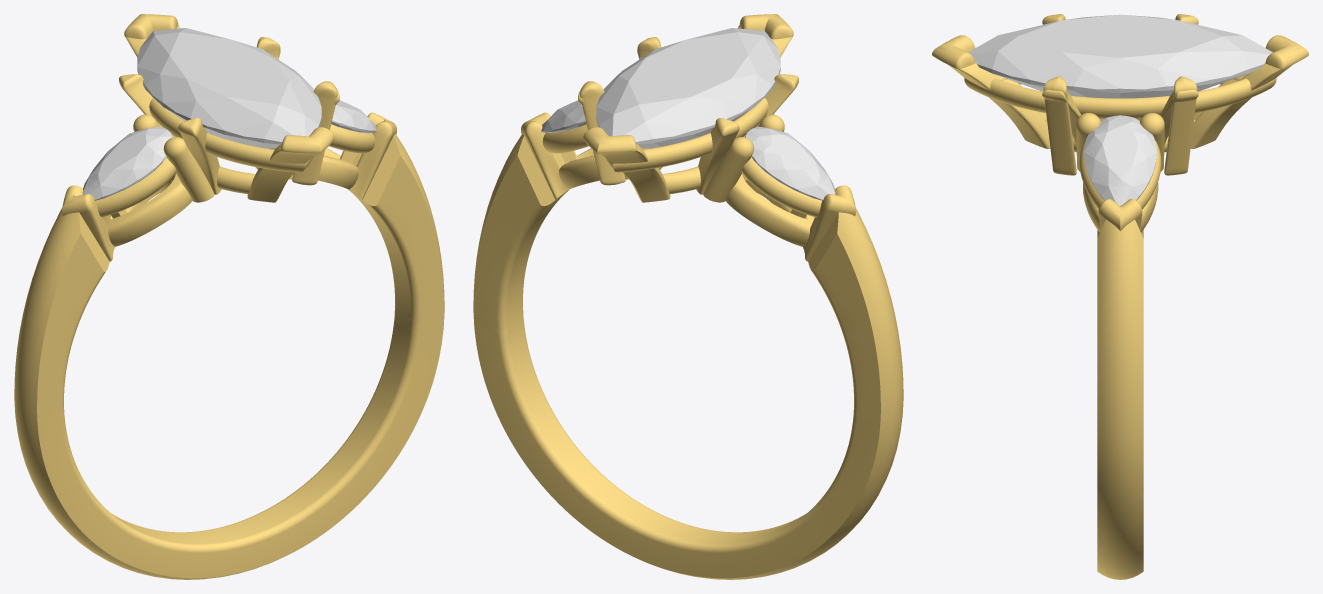
The model's file is NEWJustinYGengv4_blender.glb.
The picture shows the model from 3 angles, left to right: view 1: azimuth 30°, elevation 25°; view 2: azimuth 150°, elevation 25°; view 3: azimuth 270°, elevation 25°; orthographic projection. The views are drawn at different scales.
Parts seen in each view (by area): view 1: NEW Justin YG for 3d model, Justin marquise dia for 3d model, NEW Justin dia for 3d model.001, NEW Justin dia for 3d model; view 2: NEW Justin YG for 3d model, Justin marquise dia for 3d model, NEW Justin dia for 3d model.001, NEW Justin dia for 3d model; view 3: NEW Justin YG for 3d model, Justin marquise dia for 3d model, NEW Justin dia for 3d model.
Boxes of the visible parts, left/top/right/bottom form: NEW Justin YG for 3d model: left=14, top=14, right=444, bottom=579; Justin marquise dia for 3d model: left=137, top=28, right=321, bottom=148; NEW Justin dia for 3d model.001: left=82, top=126, right=172, bottom=200; NEW Justin dia for 3d model: left=331, top=100, right=376, bottom=133; NEW Justin YG for 3d model: left=473, top=14, right=903, bottom=579; Justin marquise dia for 3d model: left=596, top=28, right=780, bottom=148; NEW Justin dia for 3d model.001: left=745, top=126, right=835, bottom=200; NEW Justin dia for 3d model: left=541, top=100, right=586, bottom=133; NEW Justin YG for 3d model: left=932, top=14, right=1308, bottom=579; Justin marquise dia for 3d model: left=968, top=14, right=1272, bottom=98; NEW Justin dia for 3d model: left=1084, top=115, right=1156, bottom=205.
Size of the model in its own units: 20.72 by 23.65 by 15.53.
